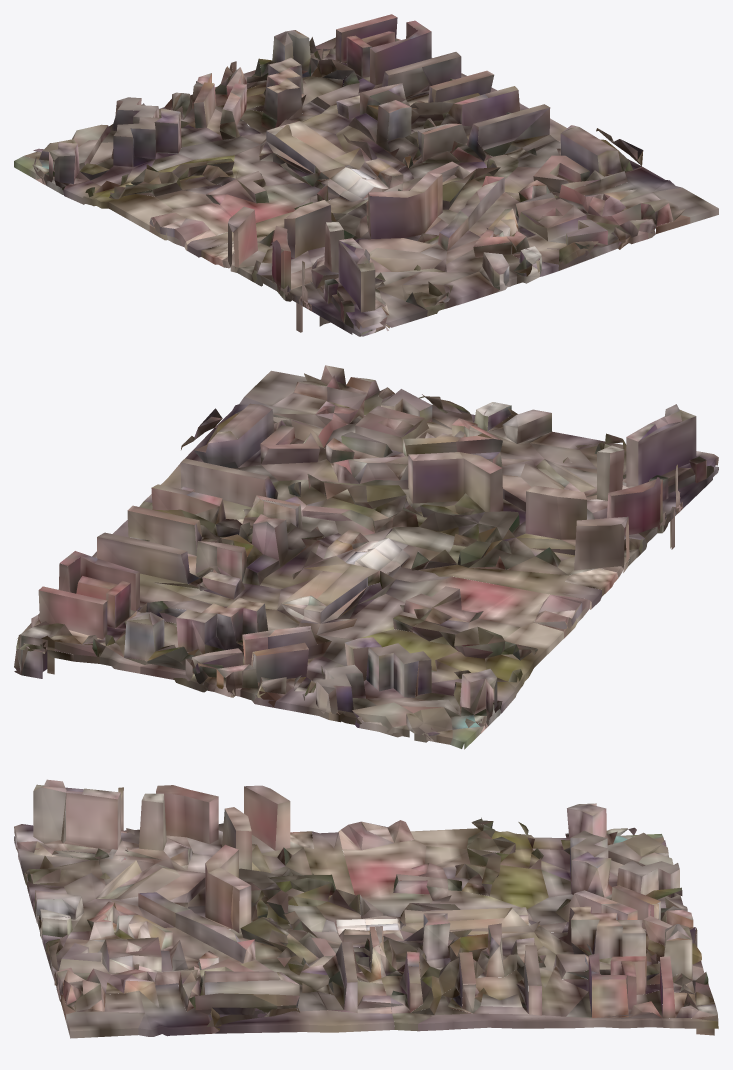
3 views of the same model, one above another, from view 1: azimuth 30°, elevation 25°; view 2: azimuth 150°, elevation 25°; view 3: azimuth 270°, elevation 25° (orthographic). The views are drawn at different scales.
Visible parts, largest first — view 1: Mesh_0; view 2: Mesh_0; view 3: Mesh_0.
Part boxes in pixels (box(x1,y1,x2,y2)): Mesh_0: box(14, 14, 718, 336); Mesh_0: box(14, 365, 718, 749); Mesh_0: box(14, 779, 718, 1038).
Bounding box in the file's own units: 533 × 116 × 659.
Materials: 2 (2 with a texture image).
